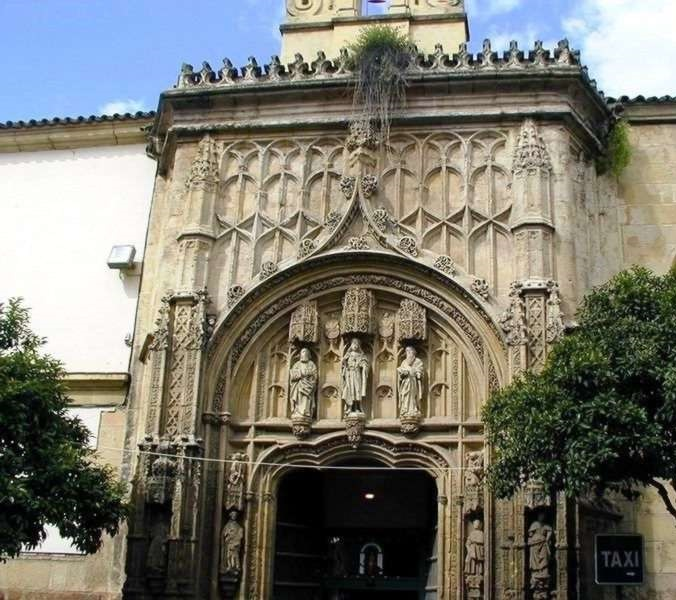arco-conopial: (234, 178, 480, 304)
arco-trilobulado: (256, 428, 449, 499)
